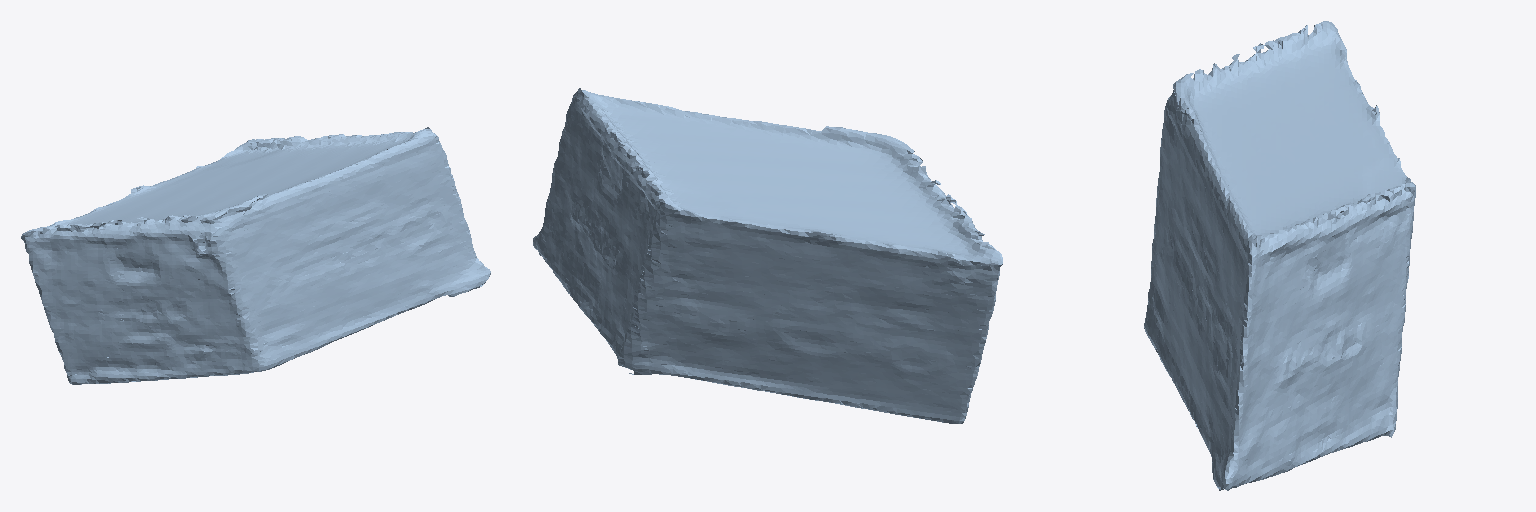
The robot description file, URDF, robot "largebox":
<?xml version="1.0" ?>
<robot name="largebox">
  <dynamics damping="0.5" friction="0.9"/>
  <link name="largebox_link">
    <inertial>
      <mass value="0.1"/>
      <origin xyz="0 0 0"/>
      <inertia ixx="0.002" ixy="0" ixz="0" iyy="0.002" iyz="0" izz="0.002"/>
    </inertial>
    <contact>
      <lateral_friction value="0.9"/>
      <rolling_friction value="0.5"/>
      <stiffness value="30000"/>
      <damping value="1000"/>
    </contact>
    <visual>
      <origin rpy="0 0 0" xyz="0 0 0"/>
      <geometry>
        <mesh filename="largebox.obj" scale="1.0 1.0 1.0"/>
      </geometry>
       <material name="mat">
        <color rgba="0.7 0.8 0.9 0.7"/>
      </material>
    </visual>
    <collision name="largebox">
      <origin rpy="0 0 0" xyz="0 0 0"/>
      <geometry>
        <mesh filename="largebox.obj" scale="1.0 1.0 1.0"/>
      </geometry>
    </collision>
  </link>
</robot>

--- Render facts (derived) ---
Views: 3 orthographic renders of the robot side by side, from view 1: azimuth 30°, elevation 25°; view 2: azimuth 150°, elevation 25°; view 3: azimuth 270°, elevation 25°.
Robot: largebox — 1 links, 0 joints (none); root link largebox_link; default pose: all joints at 0.
Visible links, largest first — view 1: largebox_link; view 2: largebox_link; view 3: largebox_link.
Boxes of the visible links, x1,y1,x2,y2 form: largebox_link: (21, 127, 490, 384); largebox_link: (533, 88, 1002, 423); largebox_link: (1144, 21, 1415, 490).
Bounding box of the posed robot: 0.2385 × 0.0917 × 0.0996 m (x, y, z).
Meshes: 1 distinct files referenced, 1 mesh visuals loaded (1 OBJ).
